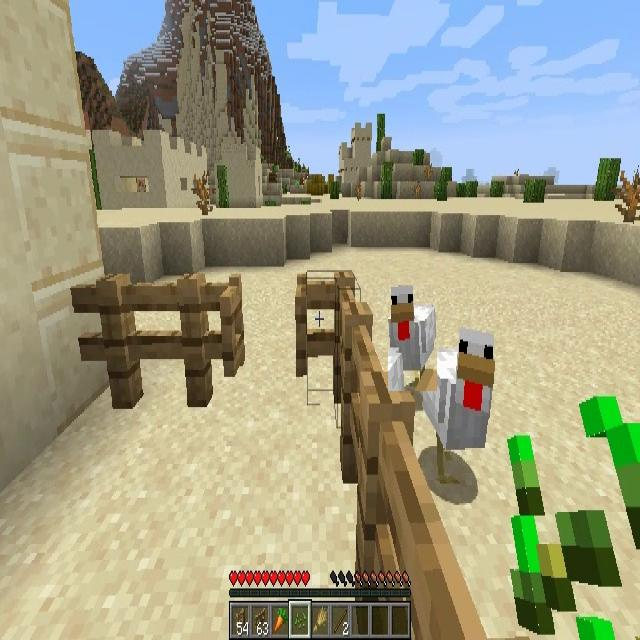duck: (420, 334, 494, 486), (388, 286, 437, 392)
